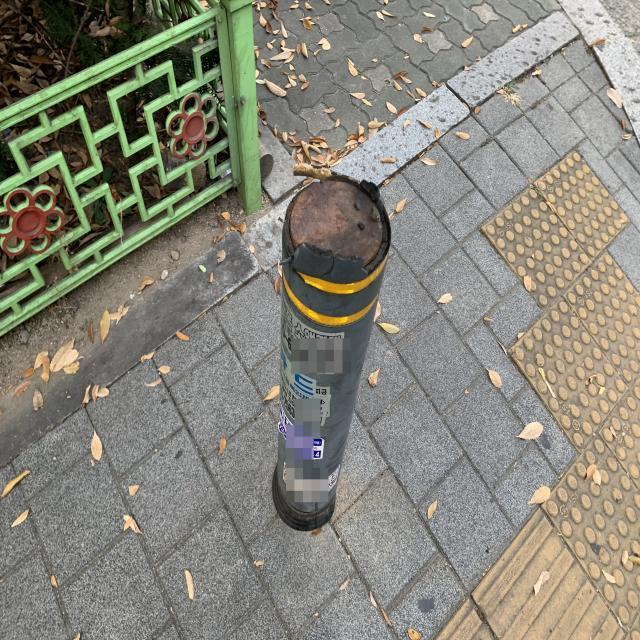pole: (267, 174, 385, 534)
